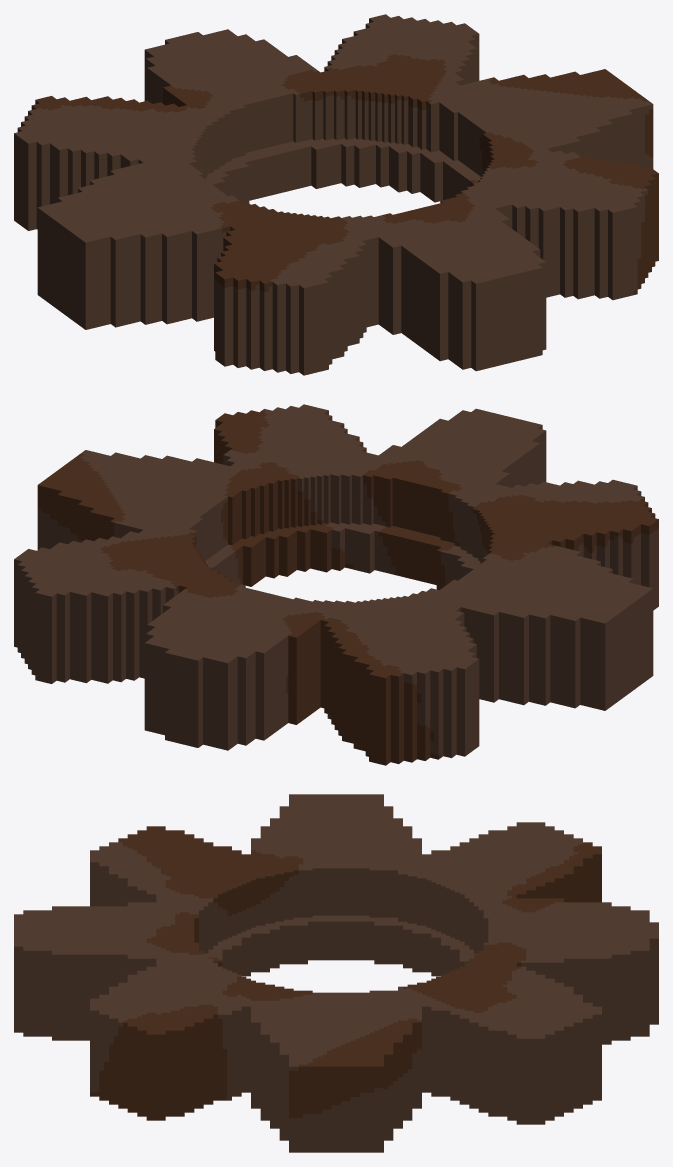
Rendered from gear_wheel.glb.
3 views of the same model, one above another, from view 1: azimuth 30°, elevation 25°; view 2: azimuth 150°, elevation 25°; view 3: azimuth 270°, elevation 25° (orthographic).
Parts seen in each view (by area): view 1: gear_wheel3; view 2: gear_wheel3; view 3: gear_wheel3.
Boxes of the visible parts, <box> form: gear_wheel3: <box>14,14,658,375</box>; gear_wheel3: <box>14,404,658,765</box>; gear_wheel3: <box>14,794,658,1152</box>.
Size of the model in its own units: 13.6 by 2 by 13.6.
1 material, 1 textured.
